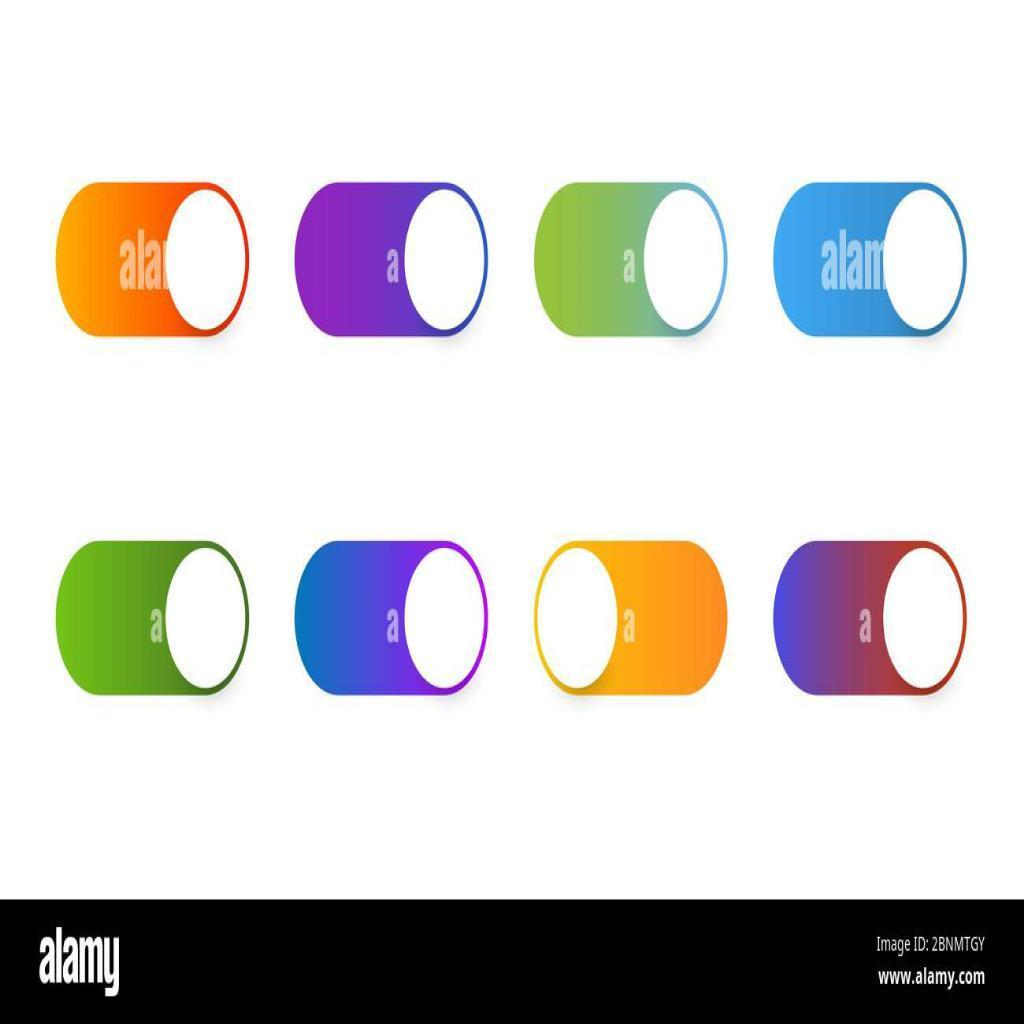switch: (55, 183, 250, 339), (535, 183, 730, 339), (534, 541, 729, 697), (295, 184, 490, 339), (57, 542, 251, 697), (773, 542, 967, 697), (774, 184, 969, 337), (296, 542, 489, 696)
